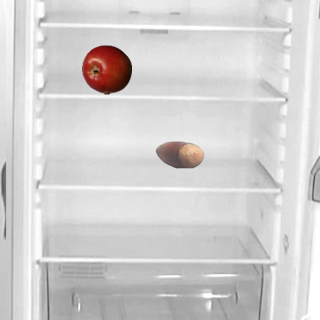Apple Braeburn: (81, 44, 131, 94)
Hazelnut: (154, 129, 204, 179)
